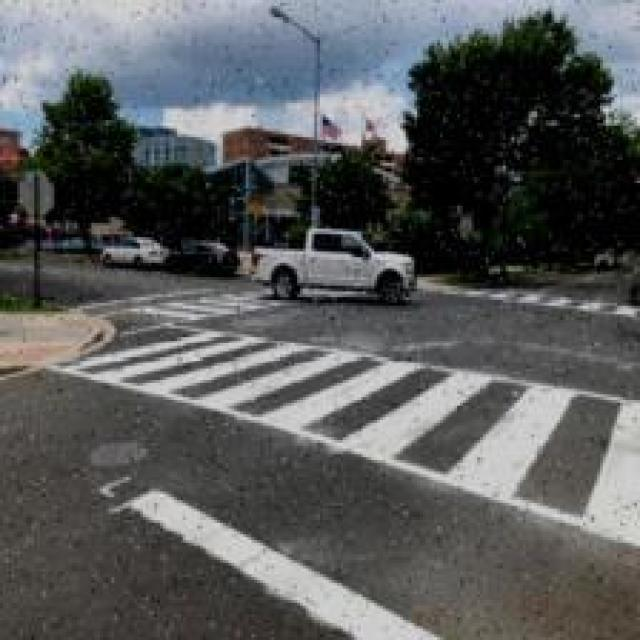crosswalk: (53, 324, 640, 550), (111, 266, 326, 323)
